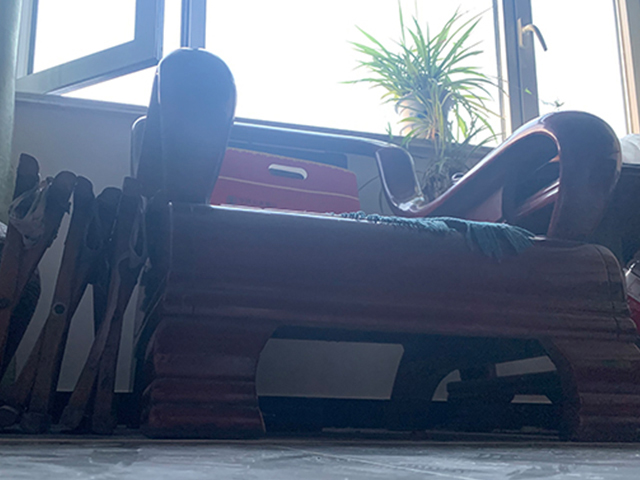sofa: (130, 47, 639, 445)
stool: (1, 152, 142, 437)
